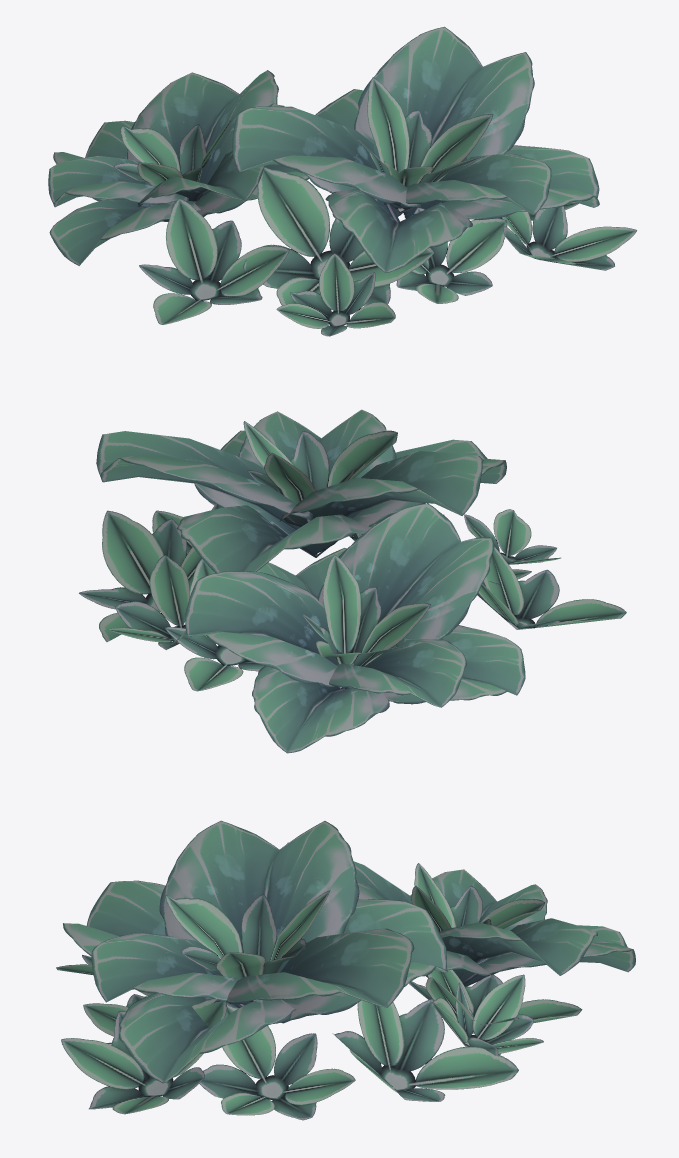
File: Prop_Flowers_01.FBX
3 renders of one model, top to bottom at view 1: azimuth 30°, elevation 25°; view 2: azimuth 150°, elevation 25°; view 3: azimuth 270°, elevation 25°, orthographic. The views are drawn at different scales.
Parts seen in each view (by area): view 1: Prop_Flowers_01; view 2: Prop_Flowers_01; view 3: Prop_Flowers_01.
Boxes of the visible parts, x1,y1,x2,y2 form: Prop_Flowers_01: (48,26,636,336); Prop_Flowers_01: (79,409,626,753); Prop_Flowers_01: (56,820,635,1120).
Size of the model in its own units: 4.81 by 1.64 by 4.93.
